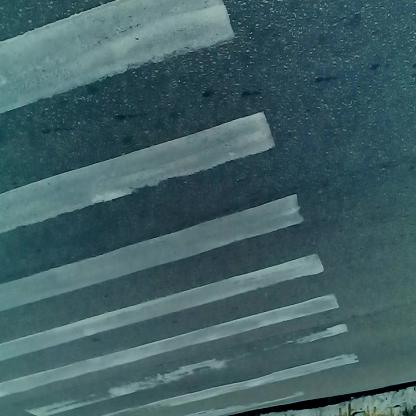crosswalk: (1, 2, 369, 378)
